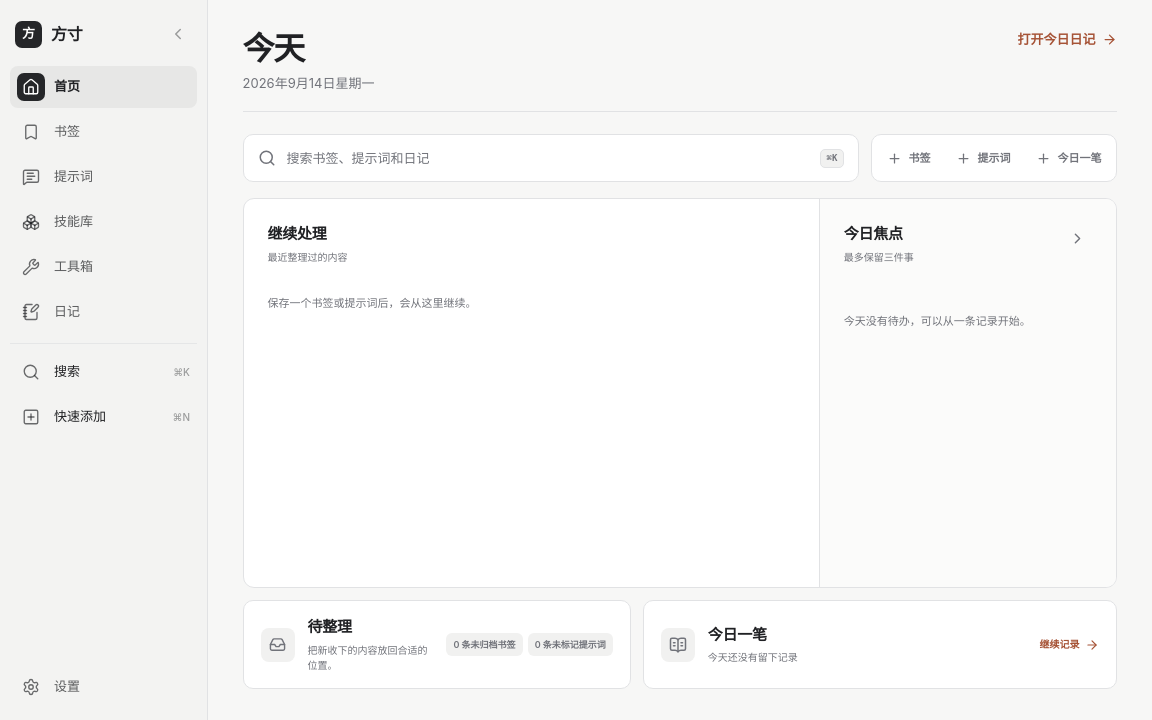
AppShell › renders the minimal navigation and changes pages
The width and height of the screenshot is (1152, 720).
Expected: the link "提示词" is shown, left=22, top=168, right=93, bottom=186
Expected: the link "技能库" is shown, left=22, top=213, right=93, bottom=231
Click the link "书签". click: (51,132)
box: left=22, top=123, right=80, bottom=141
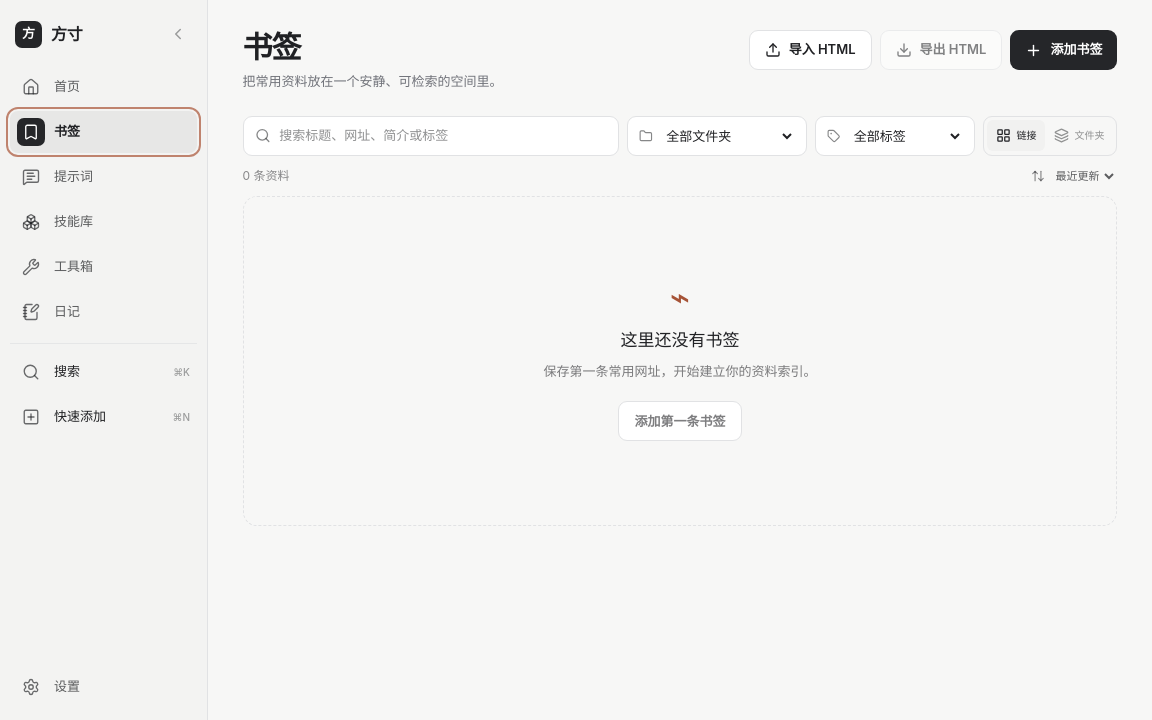
Now the heading "书签" is shown, box left=242, top=29, right=300, bottom=65
